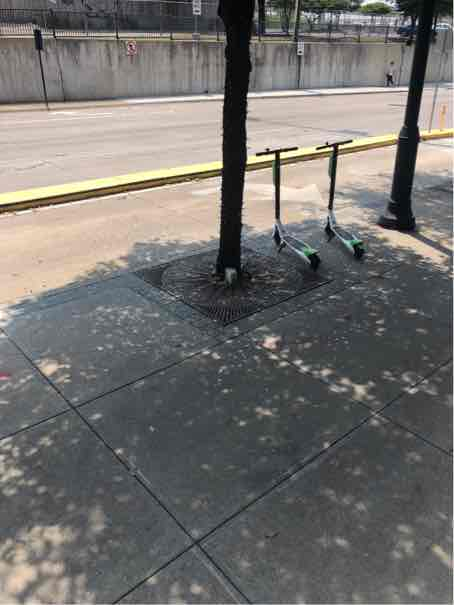scooter: (254, 144, 323, 269), (314, 137, 367, 261)
